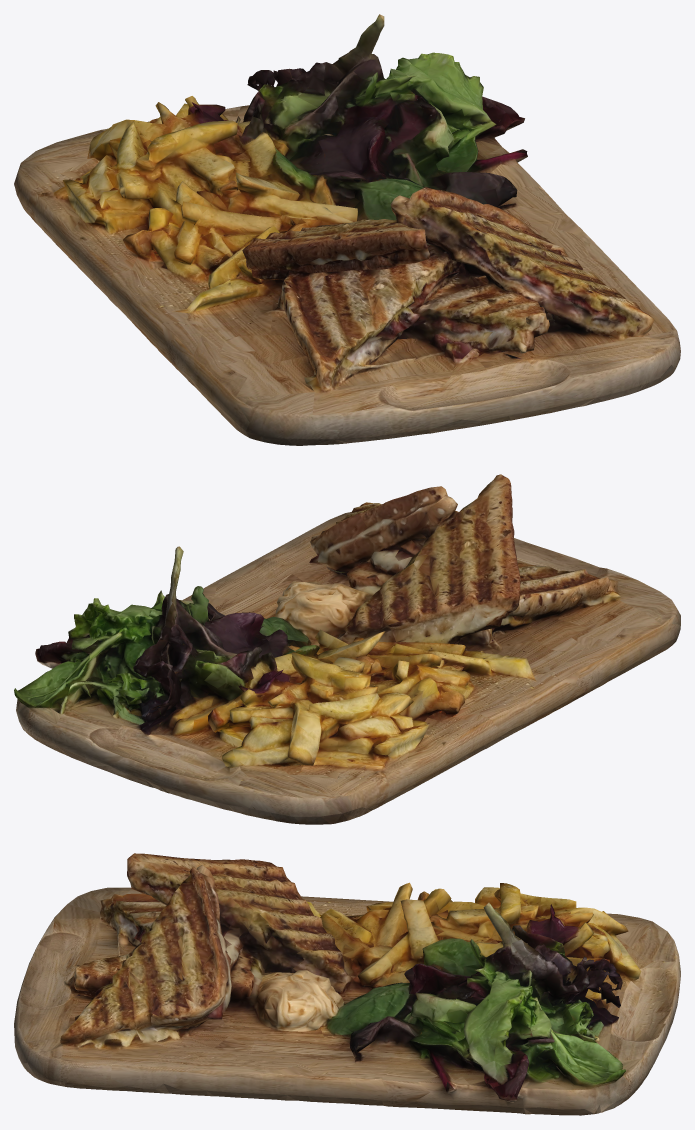
File: grilled-sandwich.fbx
The picture shows the model from 3 angles, top to bottom: view 1: azimuth 30°, elevation 25°; view 2: azimuth 150°, elevation 25°; view 3: azimuth 270°, elevation 25°; orthographic projection. The views are drawn at different scales.
Visible parts, largest first — view 1: 3DModel_LowPoly.001; view 2: 3DModel_LowPoly.001; view 3: 3DModel_LowPoly.001.
Boxes of the visible parts, x1,y1,x2,y2 form: 3DModel_LowPoly.001: (14, 14, 680, 445); 3DModel_LowPoly.001: (14, 474, 680, 824); 3DModel_LowPoly.001: (14, 853, 680, 1115).
Size of the model in its own units: 136 by 46.88 by 176.
